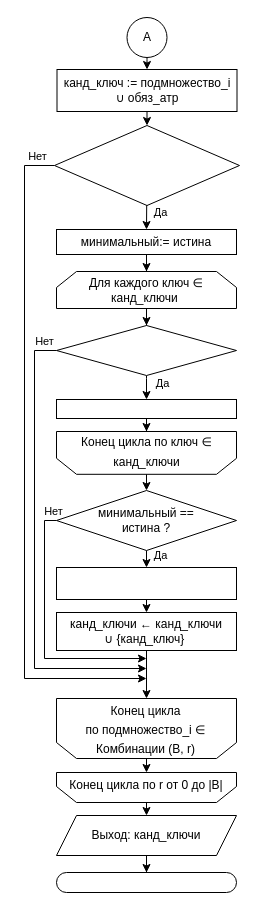
This 257x910 diagram has some shape labels left out. Here are the shapes that lost their labels. From the top down, the centre of each, then its label:
At point 147,165: "суперключ(обяз_атр, R) == истина ?".
At point 146,350: "ключ ⊂ канд_ключ ?".
At point 146,408: "минимальный:= ложь".
At point 146,583: "канд_ключи ← {k ∈ канд_ключи | канд_ключ ⊄ k}".
At point 146,882: "Конец".
